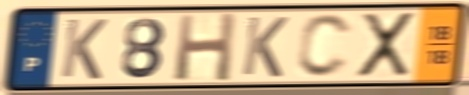8: (120, 16, 168, 81)
C: (294, 12, 356, 81)
H: (172, 11, 239, 84)
K: (58, 16, 110, 82), (239, 14, 291, 80)
X: (356, 10, 417, 81)
